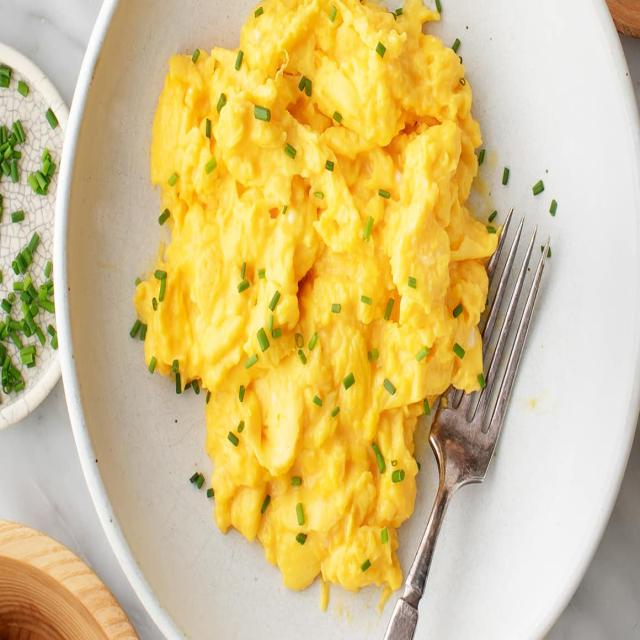eggs: (138, 18, 498, 575)
